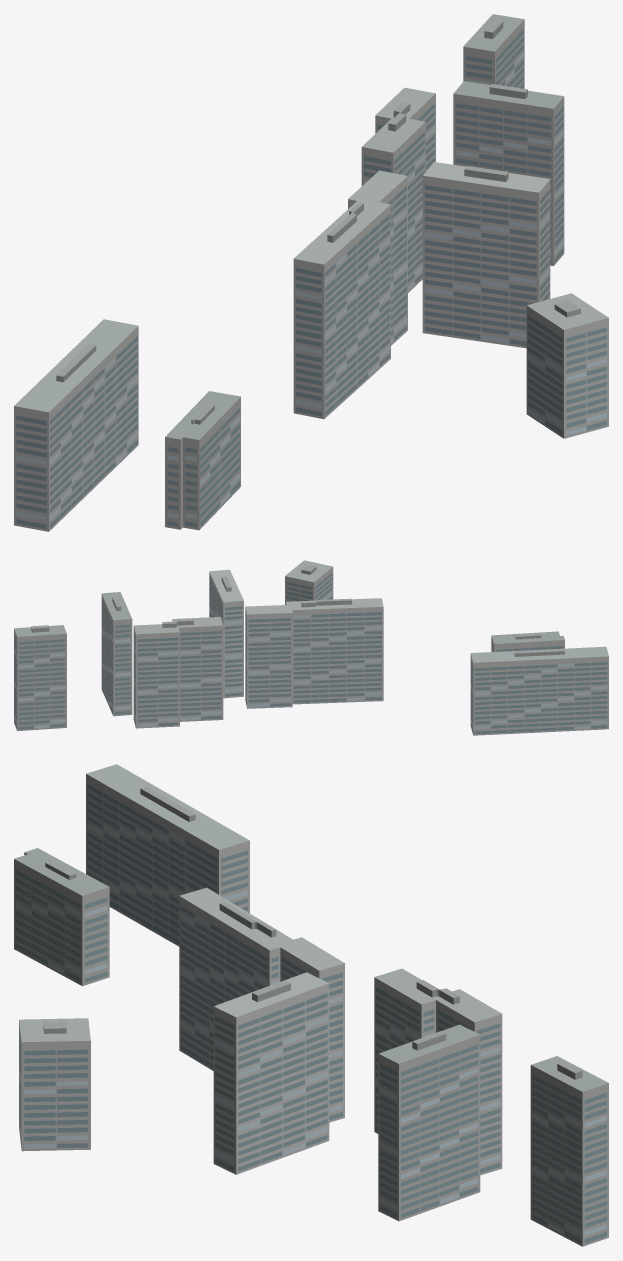
File: apt-a12119007.glb
3 views of the same model, one above another, from view 1: azimuth 30°, elevation 25°; view 2: azimuth 150°, elevation 25°; view 3: azimuth 270°, elevation 25° (orthographic). The views are drawn at different scales.
Visible parts, largest first — view 1: apt-a12119007; view 2: apt-a12119007; view 3: apt-a12119007.
Boxes of the visible parts, x1,y1,x2,y2 form: apt-a12119007: (14,14,608,531); apt-a12119007: (14,560,608,735); apt-a12119007: (14,764,608,1246).
Bounding box in the file's own units: 280 × 59 × 194.
